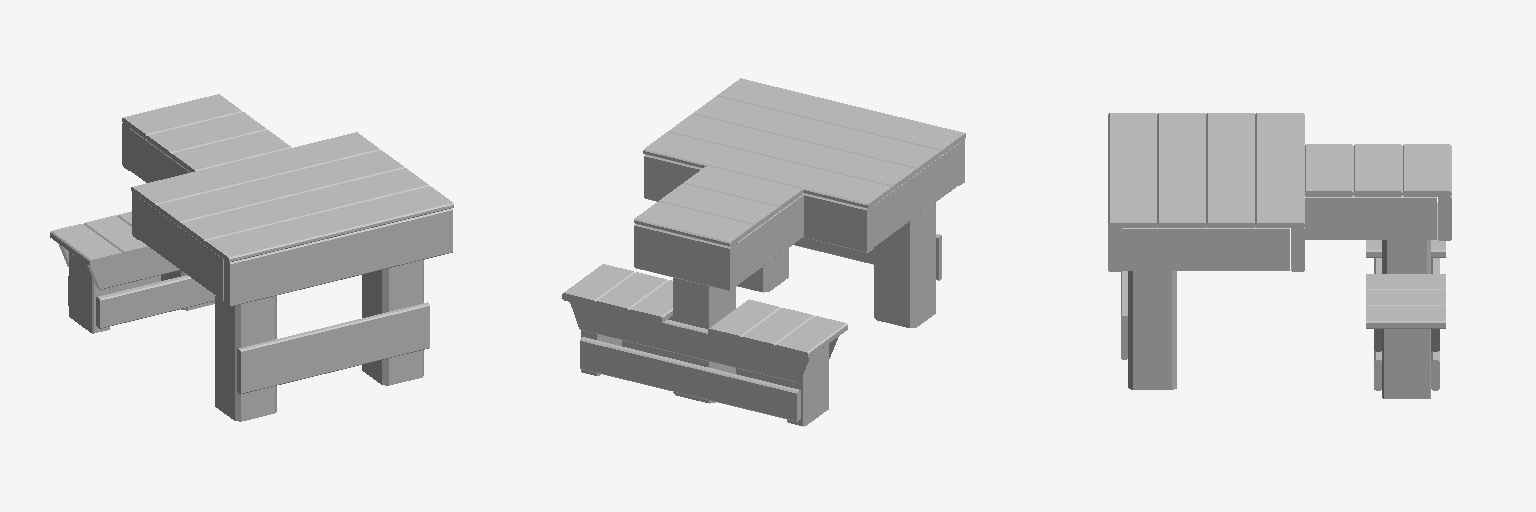
File: bench1.obj
3 views of the same model, side by side, from view 1: azimuth 30°, elevation 25°; view 2: azimuth 150°, elevation 25°; view 3: azimuth 270°, elevation 25° (orthographic).
Visible parts, largest first — view 1: Bench_Rifle; view 2: Bench_Rifle; view 3: Bench_Rifle.
Boxes of the visible parts, box(x1,y1,x2,y2) form: Bench_Rifle: box(50, 94, 453, 421); Bench_Rifle: box(562, 78, 965, 426); Bench_Rifle: box(1108, 113, 1451, 398).
Size of the model in its own units: 1.18 by 0.8053 by 1.42.